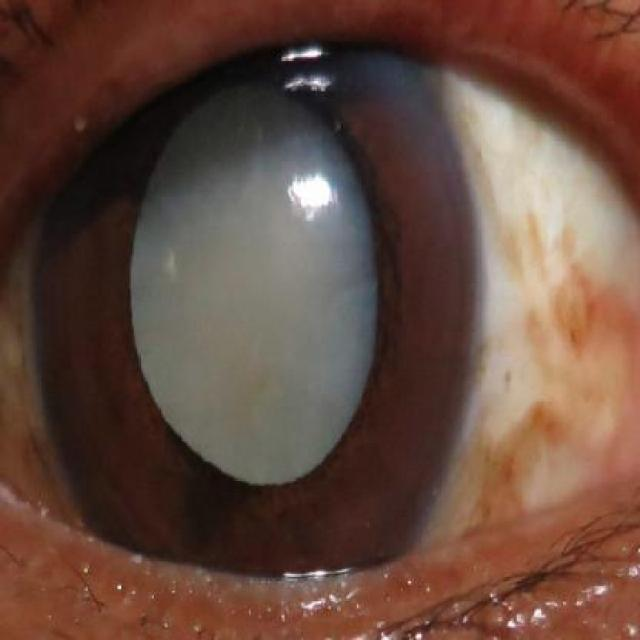Cataract: (35, 0, 475, 604)
